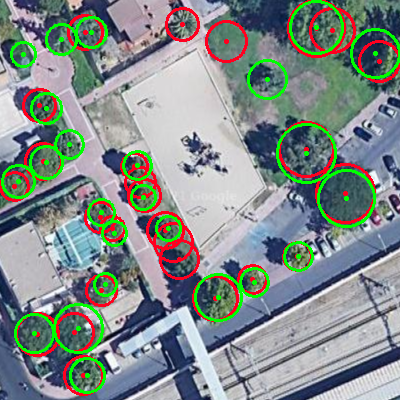tree: (318, 164, 375, 233), (274, 124, 339, 183), (282, 1, 351, 54), (351, 16, 400, 90), (54, 300, 102, 356), (195, 271, 241, 324), (248, 60, 287, 99), (15, 314, 54, 352), (68, 358, 107, 392), (30, 142, 63, 182), (1, 165, 35, 198), (28, 93, 64, 123), (43, 24, 79, 54), (76, 15, 107, 49), (83, 273, 128, 295), (240, 265, 269, 299), (284, 240, 313, 273), (121, 151, 154, 180), (55, 129, 84, 160), (128, 185, 159, 209), (11, 39, 35, 70), (154, 216, 182, 241), (100, 221, 129, 245), (88, 199, 114, 225)
